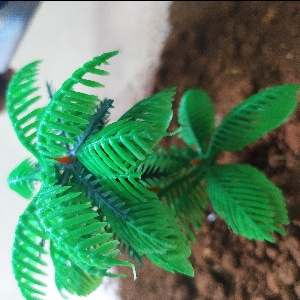plant: (1, 58, 299, 300)
